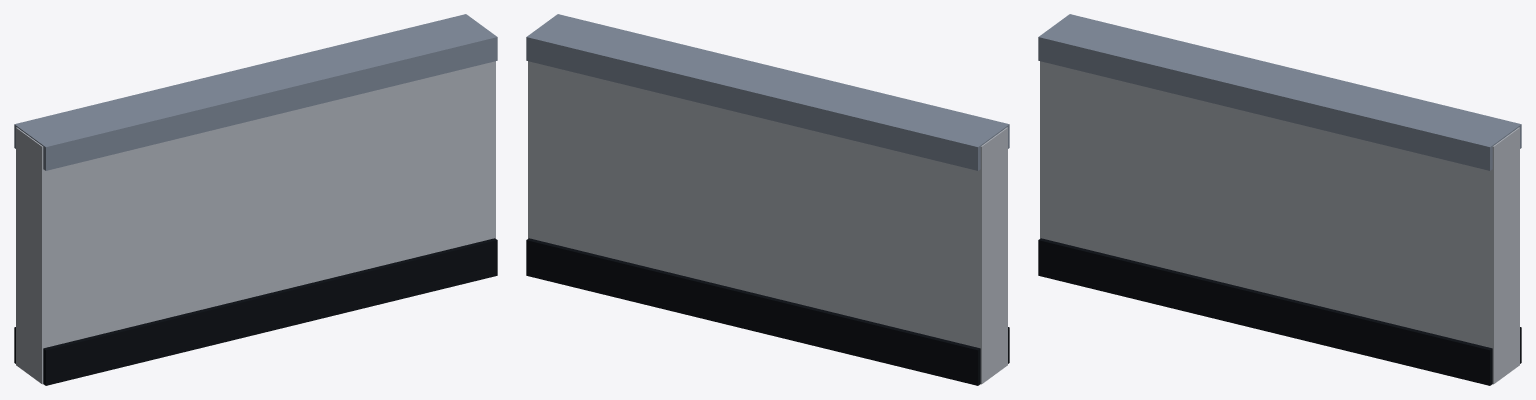
File: SM_Wall_Half_2x1.glb
The picture shows the model from 3 angles, left to right: view 1: azimuth 30°, elevation 25°; view 2: azimuth 150°, elevation 25°; view 3: azimuth 330°, elevation 25°; orthographic projection.
Parts seen in each view (by area): view 1: SM_Wall_Half_2x1-col; view 2: SM_Wall_Half_2x1-col; view 3: SM_Wall_Half_2x1-col.
Boxes of the visible parts, bbox=[...] form: SM_Wall_Half_2x1-col: bbox=[14, 14, 497, 385]; SM_Wall_Half_2x1-col: bbox=[526, 14, 1009, 385]; SM_Wall_Half_2x1-col: bbox=[1038, 14, 1521, 385].
Size of the model in its own units: 2 by 1 by 0.24.
